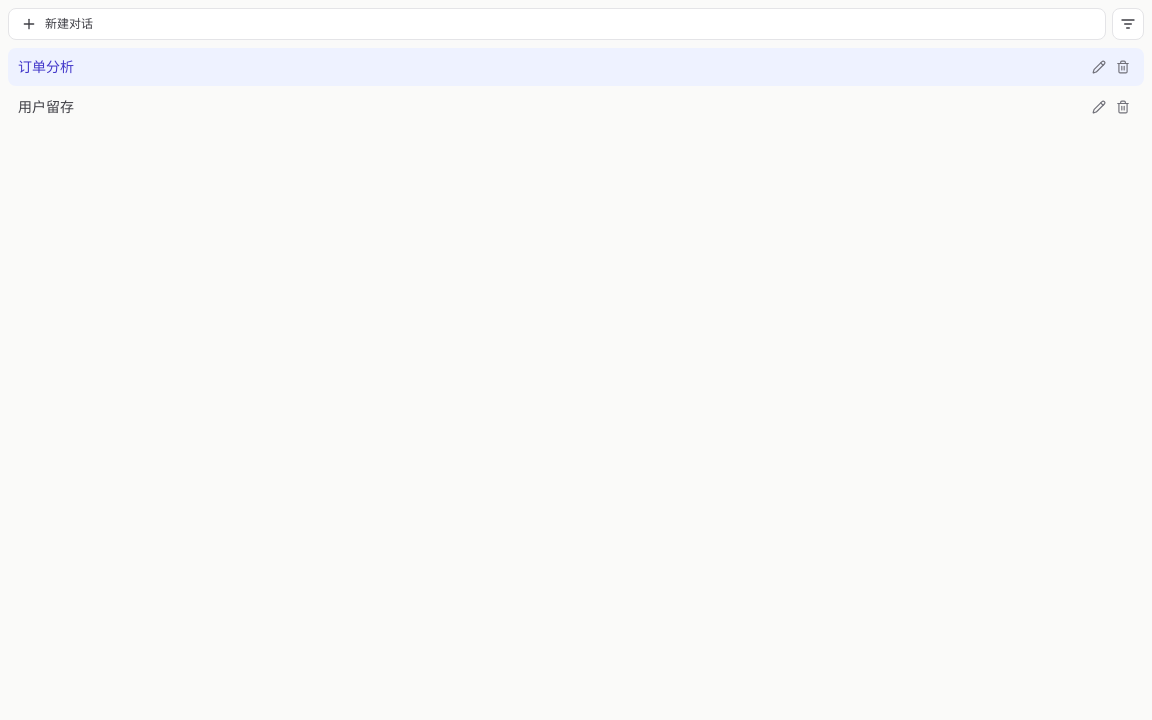
Test: ConversationSidebar pagination and actions › keeps the rename draft open when update fails
The width and height of the screenshot is (1152, 720).
expect the text "订单分析" is shown: met, box top-left (18, 58), bottom-right (74, 75)
Click the 1st button named "重命名会话" at (1099, 67), box top-left (1088, 56), bottom-right (1110, 78)
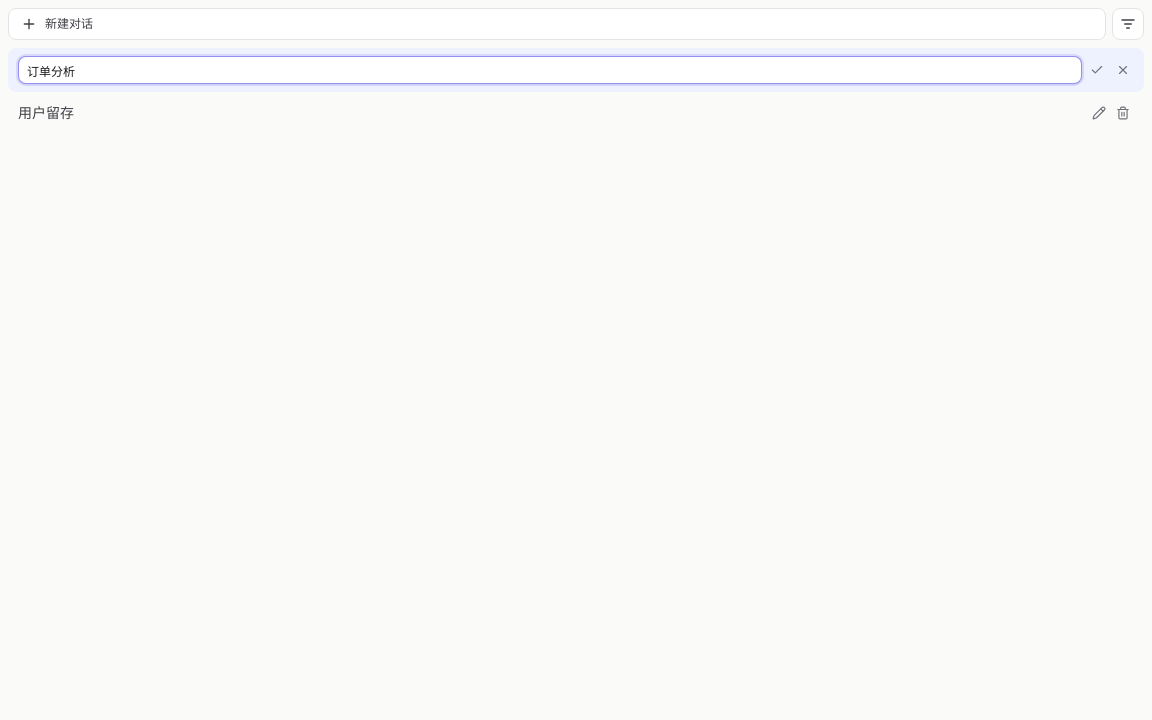
Replace the text in the field named "会话名称" with "保留草稿" at (550, 70), box top-left (18, 56), bottom-right (1082, 84)
Then press Enter
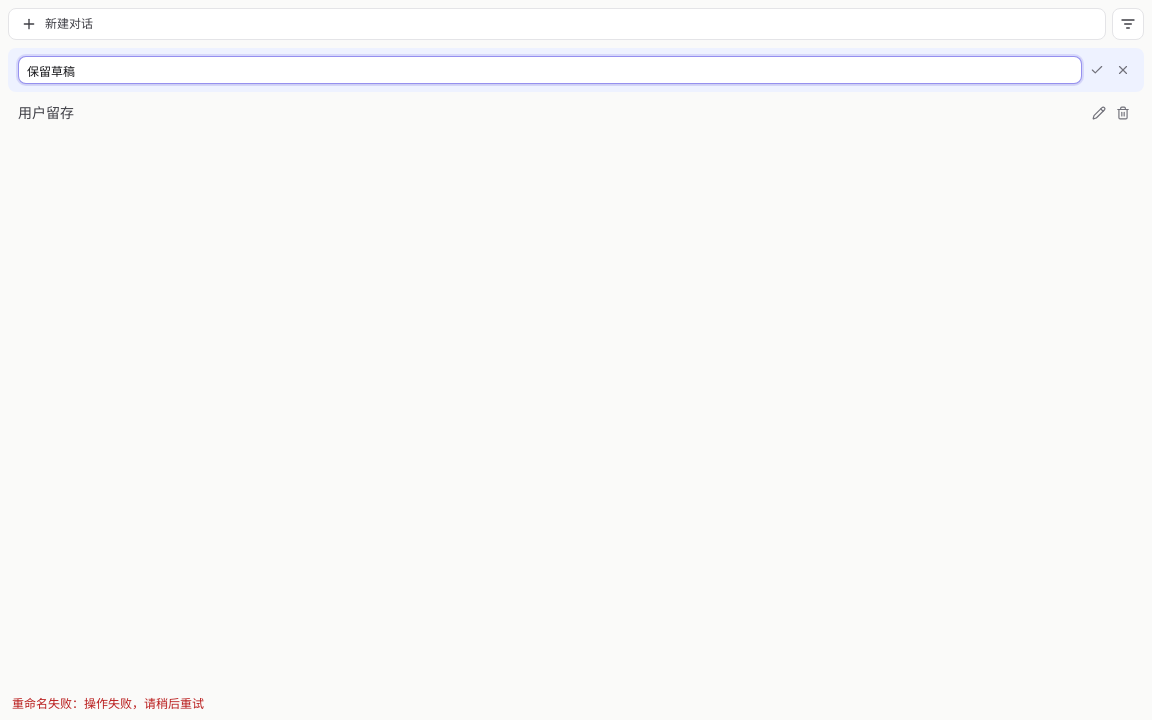
expect the message shows "重命名失败": met, box top-left (12, 696), bottom-right (84, 711)
